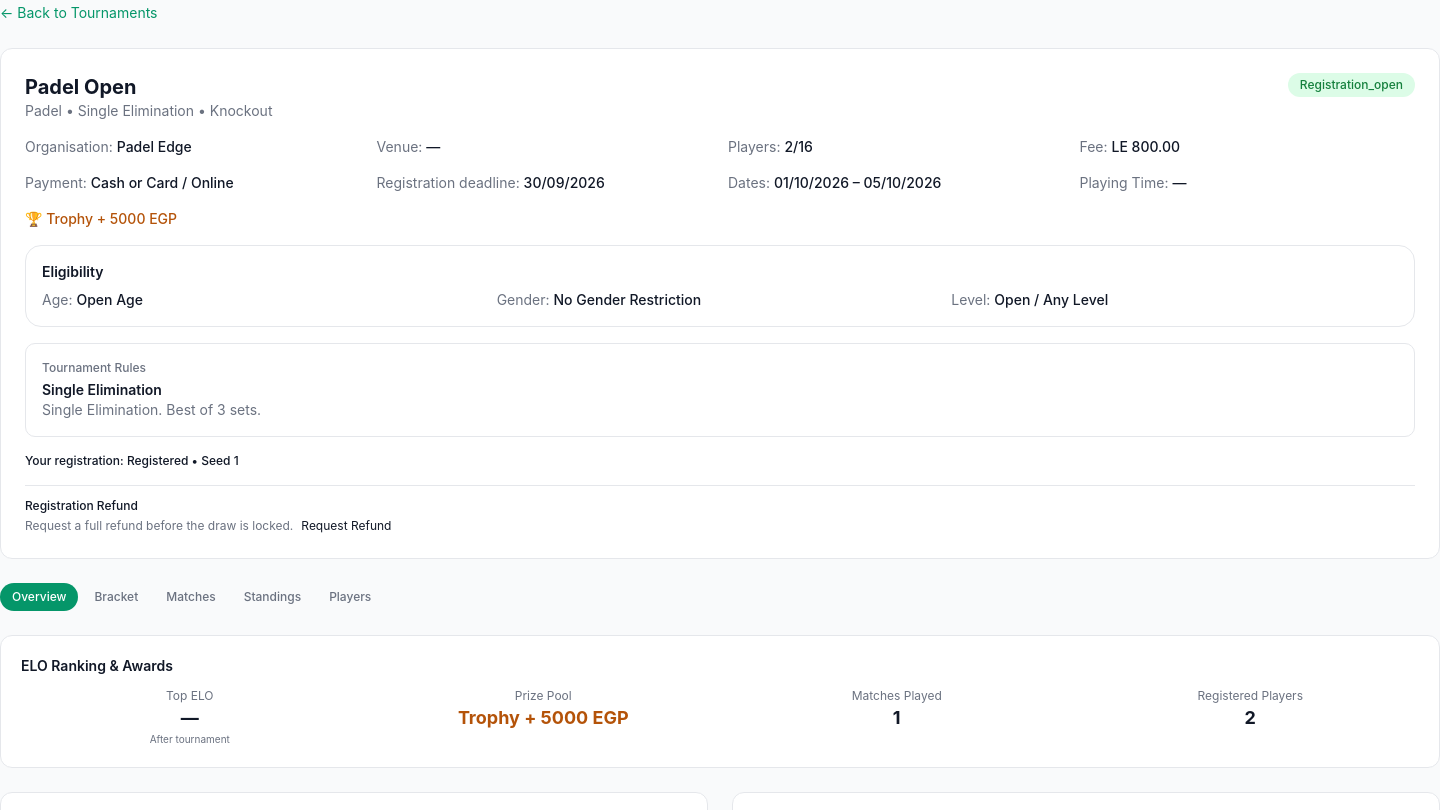
Scenario: TournamentDetailPage — player detail authoritative contract (Group 1B) › renders standings with rank_position, player_name, games_won/games_lost
Expected: the heading "Padel Open" is shown, 25,75 -> 136,99
Click the tab "Standings" at (272, 597), box 232,583 -> 313,611
(page scrolled)
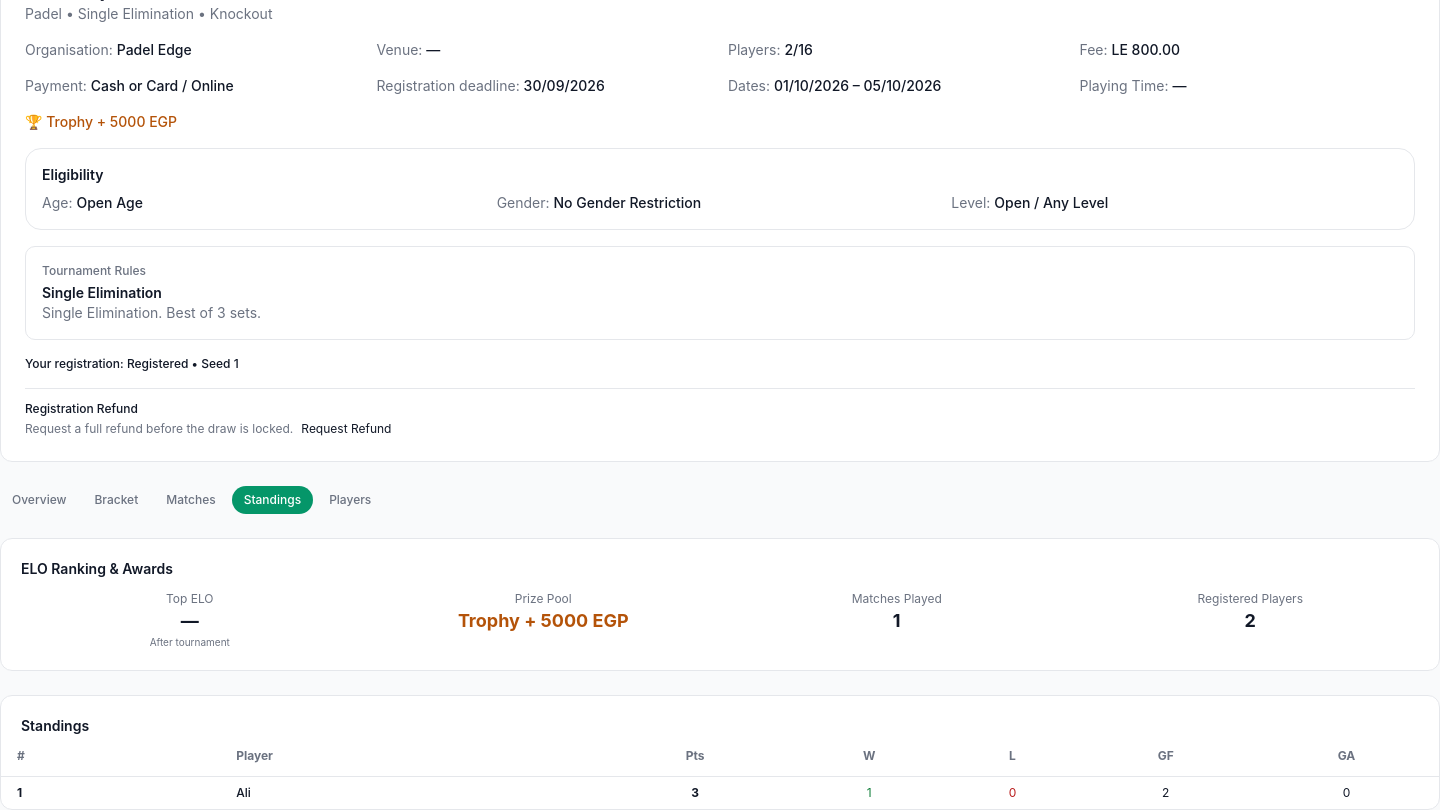
Expected: the tab "Standings" is shown, 232,486 -> 313,514
Now the text "Ali" is shown, box 220,776 -> 599,809
